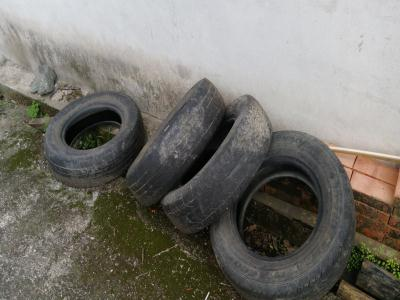tire: (204, 129, 360, 299), (159, 92, 277, 238), (122, 76, 229, 209), (42, 88, 145, 190)
